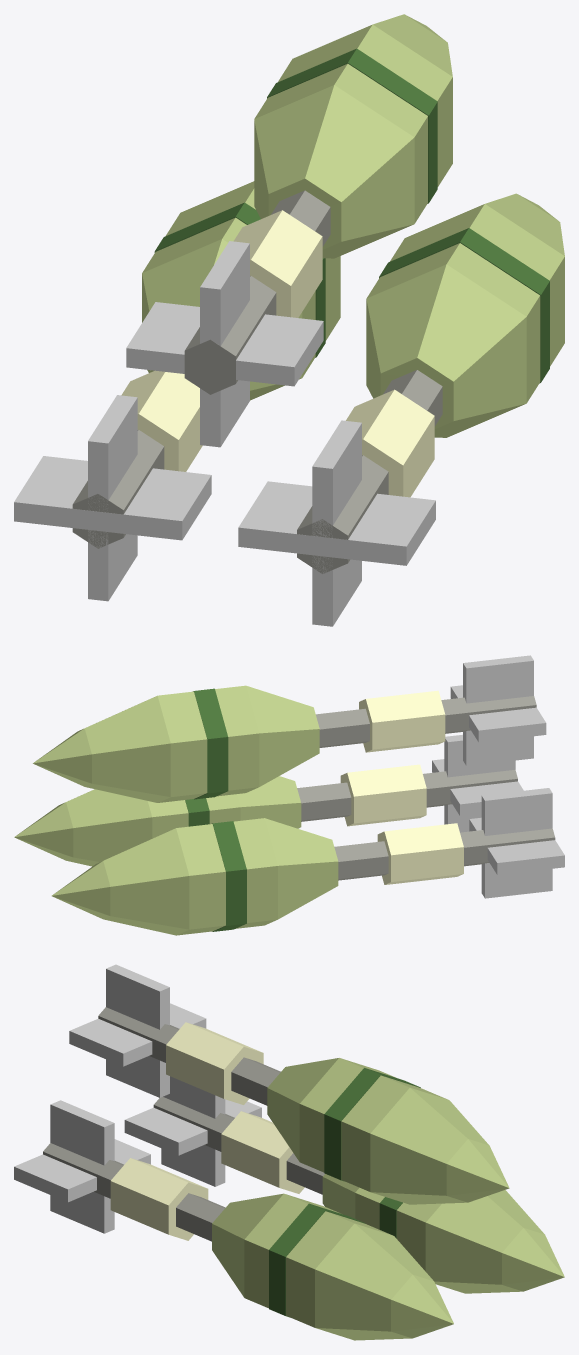
The model's file is ce_ammo_mortar_toxic_b.obj.
3 views of the same model, one above another, from view 1: azimuth 30°, elevation 25°; view 2: azimuth 150°, elevation 25°; view 3: azimuth 270°, elevation 25° (orthographic). The views are drawn at different scales.
Visible parts, largest first — view 1: ce_ammo_mortar_toxic_b_12, ce_ammo_mortar_toxic_b_22, ce_ammo_mortar_toxic_b_18, ce_ammo_mortar_toxic_b_8, ce_ammo_mortar_toxic_b_28, ce_ammo_mortar_toxic_b_19, ce_ammo_mortar_toxic_b_9, ce_ammo_mortar_toxic_b_29, ce_ammo_mortar_toxic_b_21, ce_ammo_mortar_toxic_b_11, ce_ammo_mortar_toxic_b_20, ce_ammo_mortar_toxic_b_25 (+14 smaller); view 2: ce_ammo_mortar_toxic_b_6, ce_ammo_mortar_toxic_b_26, ce_ammo_mortar_toxic_b_16, ce_ammo_mortar_toxic_b_9, ce_ammo_mortar_toxic_b_29, ce_ammo_mortar_toxic_b_22, ce_ammo_mortar_toxic_b_2, ce_ammo_mortar_toxic_b_21, ce_ammo_mortar_toxic_b_1, ce_ammo_mortar_toxic_b_11, ce_ammo_mortar_toxic_b_25, ce_ammo_mortar_toxic_b_5 (+18 smaller); view 3: ce_ammo_mortar_toxic_b_26, ce_ammo_mortar_toxic_b_16, ce_ammo_mortar_toxic_b_6, ce_ammo_mortar_toxic_b_19, ce_ammo_mortar_toxic_b_29, ce_ammo_mortar_toxic_b_11, ce_ammo_mortar_toxic_b_21, ce_ammo_mortar_toxic_b_1, ce_ammo_mortar_toxic_b_25, ce_ammo_mortar_toxic_b_15, ce_ammo_mortar_toxic_b_23, ce_ammo_mortar_toxic_b_13 (+18 smaller).
Boxes of the visible parts, box(x1,y1,x2,y2) form: ce_ammo_mortar_toxic_b_12: box(366, 264, 526, 437); ce_ammo_mortar_toxic_b_22: box(254, 85, 414, 258); ce_ammo_mortar_toxic_b_18: box(238, 481, 435, 565); ce_ammo_mortar_toxic_b_8: box(14, 456, 211, 540); ce_ammo_mortar_toxic_b_28: box(126, 302, 323, 386); ce_ammo_mortar_toxic_b_19: box(312, 420, 361, 626); ce_ammo_mortar_toxic_b_9: box(88, 395, 137, 601); ce_ammo_mortar_toxic_b_29: box(200, 241, 249, 447); ce_ammo_mortar_toxic_b_21: box(233, 210, 322, 317); ce_ammo_mortar_toxic_b_11: box(346, 389, 434, 497); ce_ammo_mortar_toxic_b_20: box(184, 190, 330, 394); ce_ammo_mortar_toxic_b_25: box(278, 24, 452, 186); ce_ammo_mortar_toxic_b_6: box(103, 828, 189, 935); ce_ammo_mortar_toxic_b_26: box(84, 695, 170, 802); ce_ammo_mortar_toxic_b_16: box(66, 789, 152, 866); ce_ammo_mortar_toxic_b_9: box(481, 788, 552, 898); ce_ammo_mortar_toxic_b_29: box(463, 655, 533, 765); ce_ammo_mortar_toxic_b_22: box(246, 685, 319, 786); ce_ammo_mortar_toxic_b_2: box(264, 818, 338, 919); ce_ammo_mortar_toxic_b_21: box(359, 690, 445, 752); ce_ammo_mortar_toxic_b_1: box(377, 823, 463, 884); ce_ammo_mortar_toxic_b_11: box(340, 764, 426, 826); ce_ammo_mortar_toxic_b_25: box(157, 691, 207, 802); ce_ammo_mortar_toxic_b_5: box(176, 824, 225, 935); ce_ammo_mortar_toxic_b_26: box(370, 1087, 489, 1204); ce_ammo_mortar_toxic_b_16: box(315, 1223, 433, 1340); ce_ammo_mortar_toxic_b_6: box(425, 1190, 544, 1293); ce_ammo_mortar_toxic_b_19: box(50, 1100, 114, 1233); ce_ammo_mortar_toxic_b_29: box(106, 964, 169, 1097); ce_ammo_mortar_toxic_b_11: box(110, 1158, 208, 1240); ce_ammo_mortar_toxic_b_21: box(166, 1022, 263, 1104); ce_ammo_mortar_toxic_b_1: box(221, 1111, 304, 1193); ce_ammo_mortar_toxic_b_25: box(341, 1075, 447, 1191); ce_ammo_mortar_toxic_b_15: box(286, 1211, 392, 1327); ce_ammo_mortar_toxic_b_23: box(299, 1058, 396, 1172); ce_ammo_mortar_toxic_b_13: box(244, 1193, 340, 1308).
Size of the model in its own units: 0.8443 by 0.39 by 0.8443.
